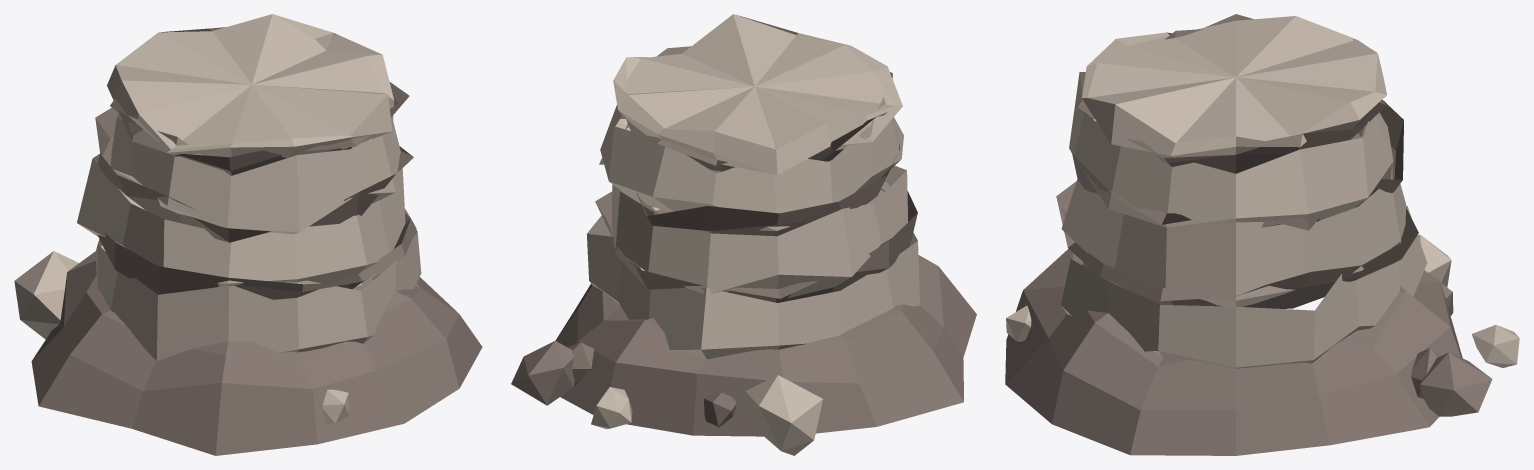
The model's file is Mesa.fbx.
3 renders of one model, left to right at view 1: azimuth 30°, elevation 25°; view 2: azimuth 150°, elevation 25°; view 3: azimuth 270°, elevation 25°, orthographic. The views are drawn at different scales.
Visible parts, largest first — view 1: Rock, RockDark; view 2: Rock, RockDark; view 3: Rock, RockDark.
Boxes of the visible parts, x1,y1,x2,y2 form: Rock: (14,14,421,423); RockDark: (31,32,482,455); Rock: (587,14,919,455); RockDark: (511,46,976,436); Rock: (1006,16,1519,368); RockDark: (1005,14,1492,455).
Bounding box in the file's own units: 16.42 × 11.9 × 17.51.
